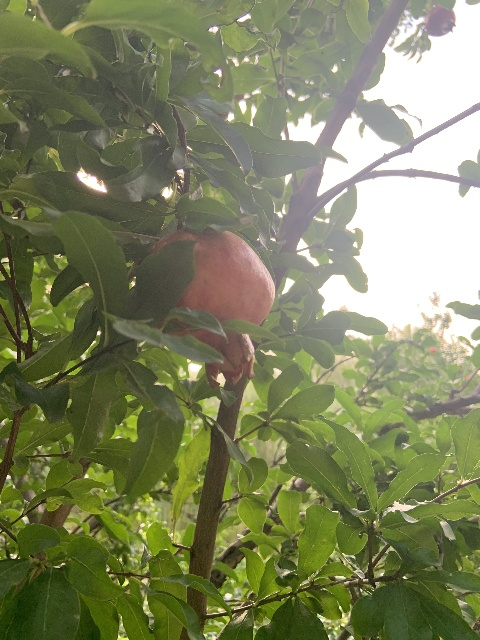ripe: (144, 228, 275, 386)
